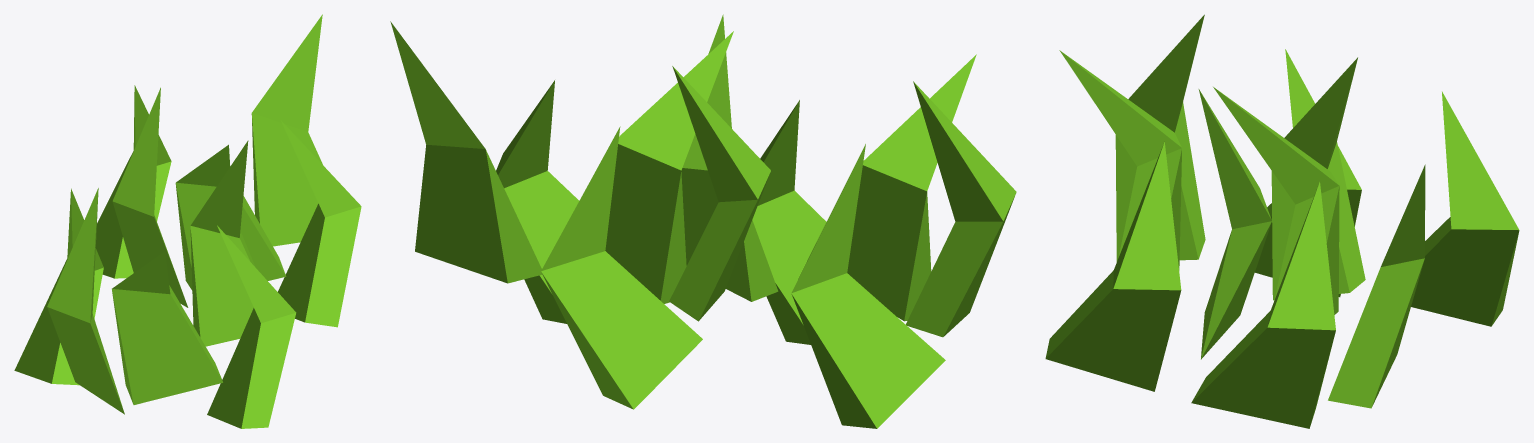
File: grass.fbx
3 views of the same model, side by side, from view 1: azimuth 30°, elevation 25°; view 2: azimuth 150°, elevation 25°; view 3: azimuth 270°, elevation 25° (orthographic). The views are drawn at different scales.
Visible parts, largest first — view 1: Cube; view 2: Cube; view 3: Cube.
Part boxes in pixels (left/top/right/bottom): Cube: left=14, top=14, right=361, bottom=428; Cube: left=390, top=14, right=1016, bottom=428; Cube: left=1045, top=14, right=1519, bottom=428.
Bounding box in the file's own units: 188 × 132 × 163.
